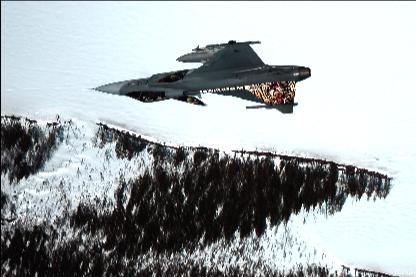JAS39: (80, 40, 310, 114)
